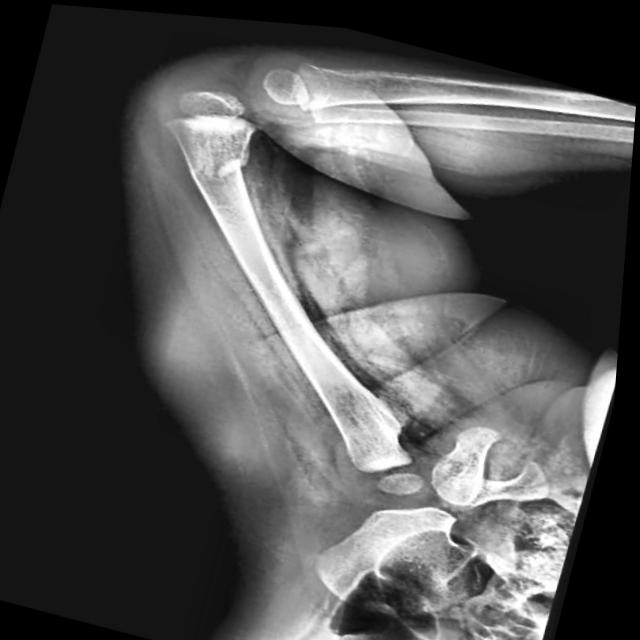fracture: (201, 148, 248, 181)
